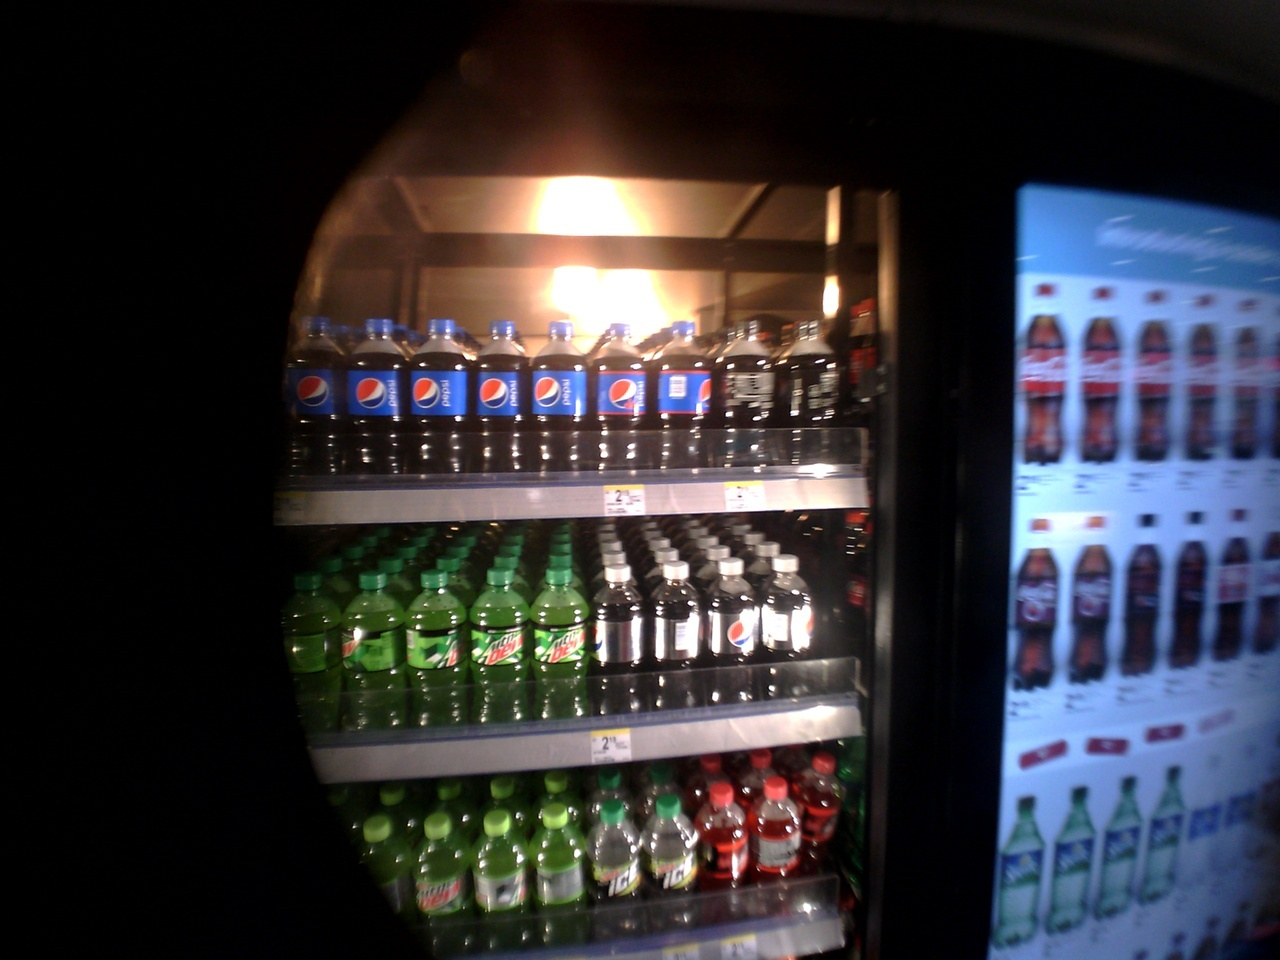shelf: (276, 512, 866, 760), (281, 724, 875, 960), (277, 307, 869, 508)
